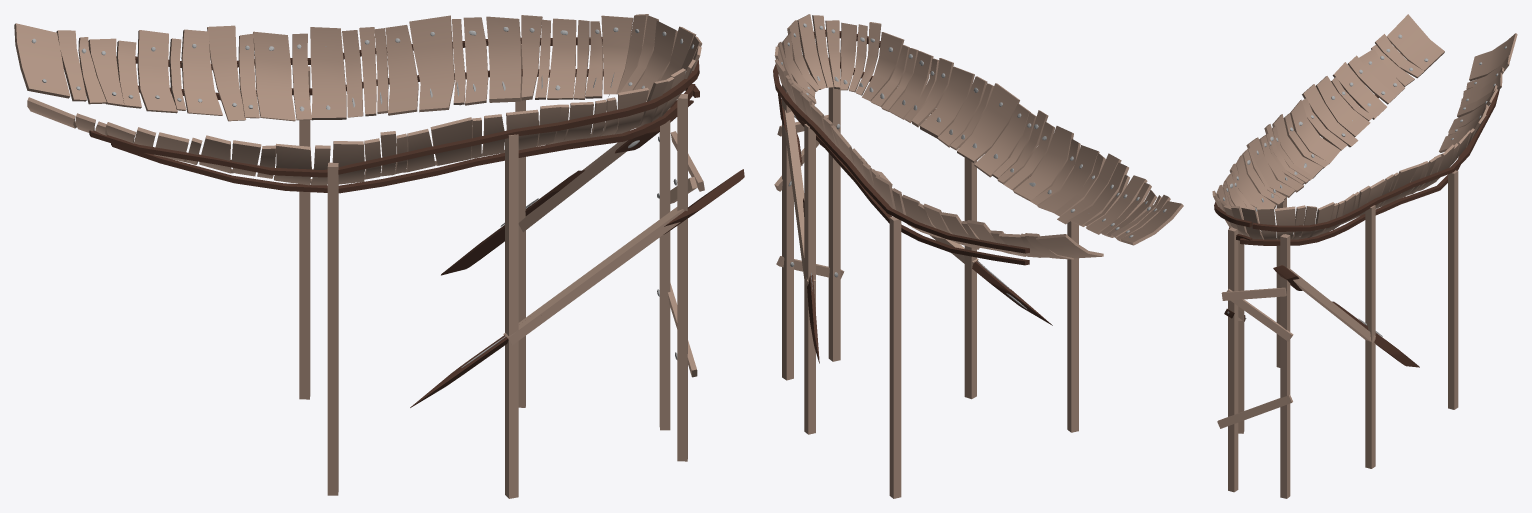
The model's file is u_ramp.fbx.
The picture shows the model from 3 angles, left to right: view 1: azimuth 30°, elevation 25°; view 2: azimuth 150°, elevation 25°; view 3: azimuth 270°, elevation 25°; orthographic projection. The views are drawn at different scales.
Visible parts, largest first — view 1: rail3, pole5, rail4, pole6, pole4, plank47, pole3, plank52, plank54, lattice4, plank64, pole1 (+37 smaller); view 2: pole1, pole2, pole4, pole3, pole5, rail1, pole6, plank18, plank13, plank21, lattice5, rail2 (+32 smaller); view 3: pole2, pole4, pole1, pole3, rail1, plank1, rail2, plank8, plank11, plank6, pole5, plank9 (+29 smaller).
Boxes of the visible parts, left/top/right/bottom form: rail3: left=89, top=60, right=699, bottom=177; pole5: left=505, top=134, right=518, bottom=498; rail4: left=111, top=84, right=695, bottom=193; pole6: left=327, top=162, right=338, bottom=495; pole4: left=677, top=94, right=687, bottom=461; plank47: left=409, top=15, right=454, bottom=112; pole3: left=659, top=107, right=670, bottom=430; plank52: left=310, top=27, right=346, bottom=120; plank54: left=253, top=31, right=295, bottom=121; lattice4: left=503, top=207, right=684, bottom=345; plank64: left=14, top=23, right=70, bottom=98; pole1: left=299, top=66, right=310, bottom=399; pole1: left=889, top=216, right=901, bottom=498; pole2: left=804, top=124, right=815, bottom=434; pole4: left=828, top=52, right=840, bottom=361; pole3: left=782, top=84, right=793, bottom=380; pole5: left=964, top=158, right=976, bottom=399; rail1: left=773, top=64, right=1029, bottom=253; pole6: left=1067, top=221, right=1078, bottom=432; plank18: left=957, top=83, right=1019, bottom=162; plank13: left=1013, top=126, right=1073, bottom=200; plank21: left=920, top=66, right=974, bottom=138; lattice5: left=784, top=109, right=815, bottom=284; rail2: left=787, top=92, right=1029, bottom=265; pole2: left=1365, top=205, right=1375, bottom=468; pole4: left=1228, top=227, right=1238, bottom=492; pole1: left=1448, top=170, right=1458, bottom=409; pole3: left=1280, top=234, right=1290, bottom=498; rail1: left=1252, top=89, right=1499, bottom=231; plank1: left=1386, top=14, right=1444, bottom=71; rail2: left=1240, top=141, right=1470, bottom=245; plank8: left=1316, top=76, right=1370, bottom=136; plank11: left=1290, top=99, right=1340, bottom=164; plank6: left=1332, top=62, right=1386, bottom=119; pole5: left=1238, top=240, right=1244, bottom=433; plank9: left=1302, top=84, right=1358, bottom=147.
Size of what is drawn, in the model's own units: 2274 by 1497 by 1416.
